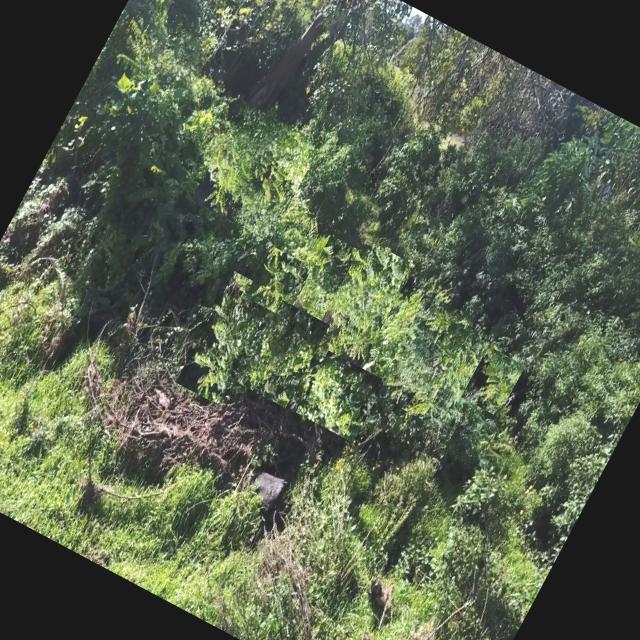Mysore-Thorn-Weed: (191, 102, 321, 240), (308, 238, 414, 372), (175, 271, 276, 405), (400, 326, 499, 460), (374, 294, 476, 419), (238, 300, 329, 408), (282, 235, 364, 344), (295, 351, 385, 443), (448, 409, 530, 495), (362, 284, 428, 379), (244, 246, 312, 318), (461, 346, 525, 417)
